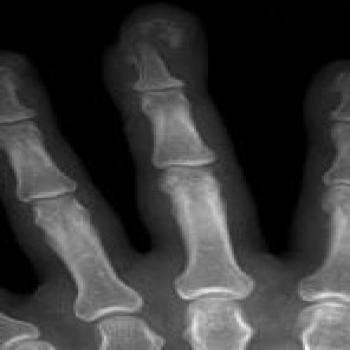Fracture: (117, 16, 189, 70)
